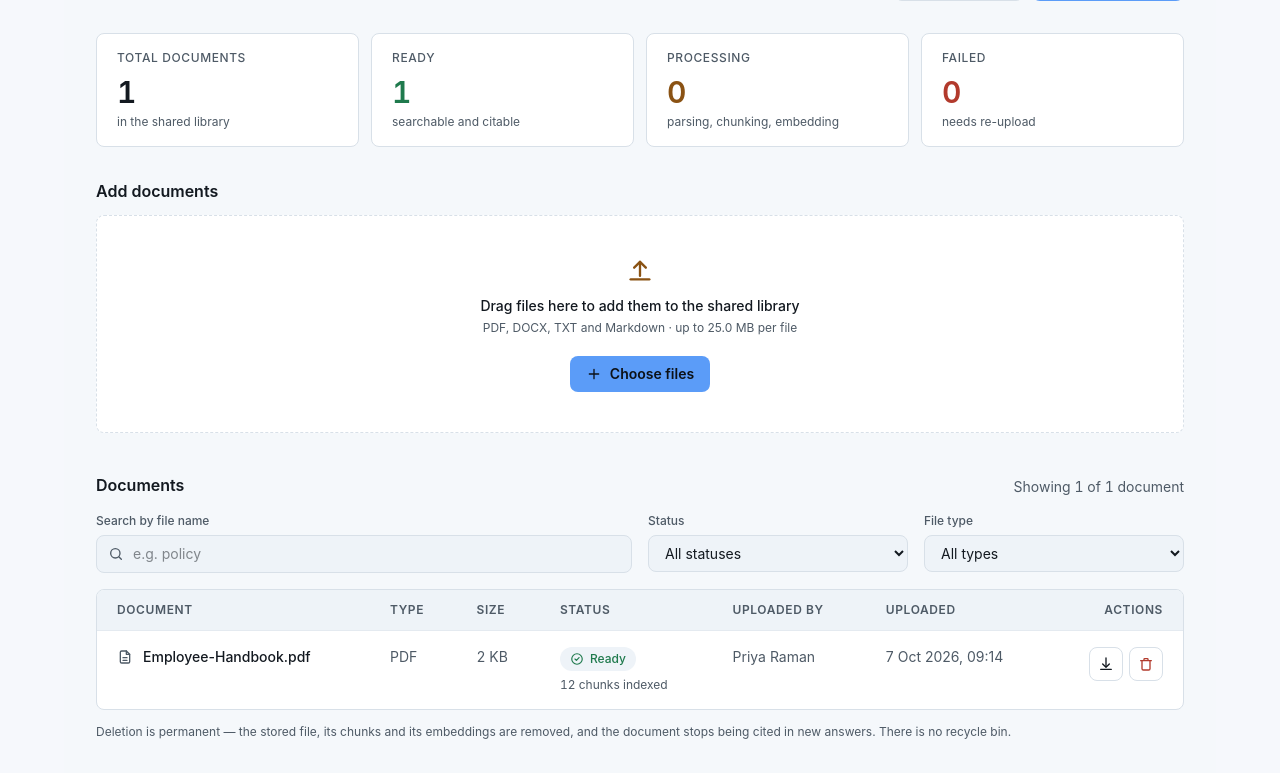
Test: KnowledgeBase › AC-037: cancel closes the dialog, sends no request, and the document remains Ready
The width and height of the screenshot is (1280, 773).
(page scrolled)
Expected: the text "Employee-Handbook.pdf" is shown, top-left (143, 646), bottom-right (311, 666)
Click the button named "Delete Employee-Handbook.pdf" at (1146, 664), box top-left (1129, 646), bottom-right (1163, 680)
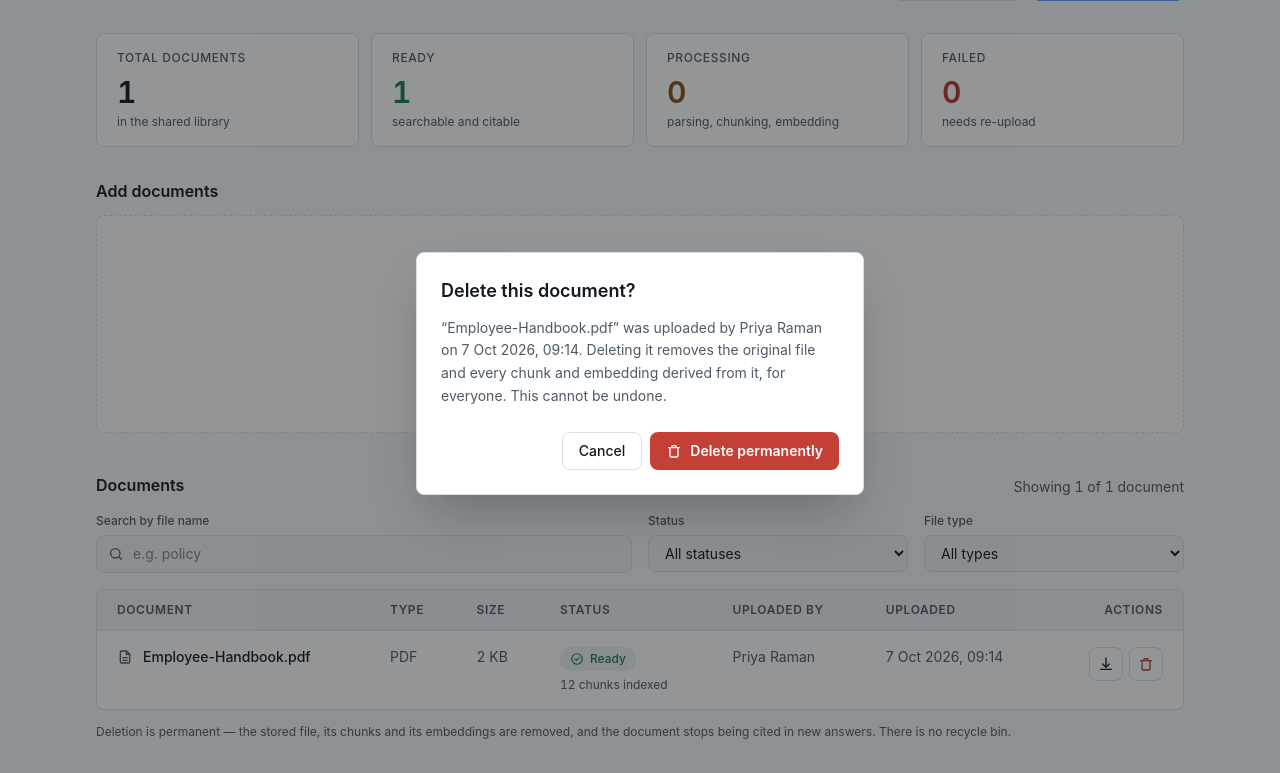
Expected: the dialog is shown, top-left (416, 252), bottom-right (864, 494)
Click the button "Cancel" at (602, 450), box top-left (562, 432), bottom-right (642, 470)
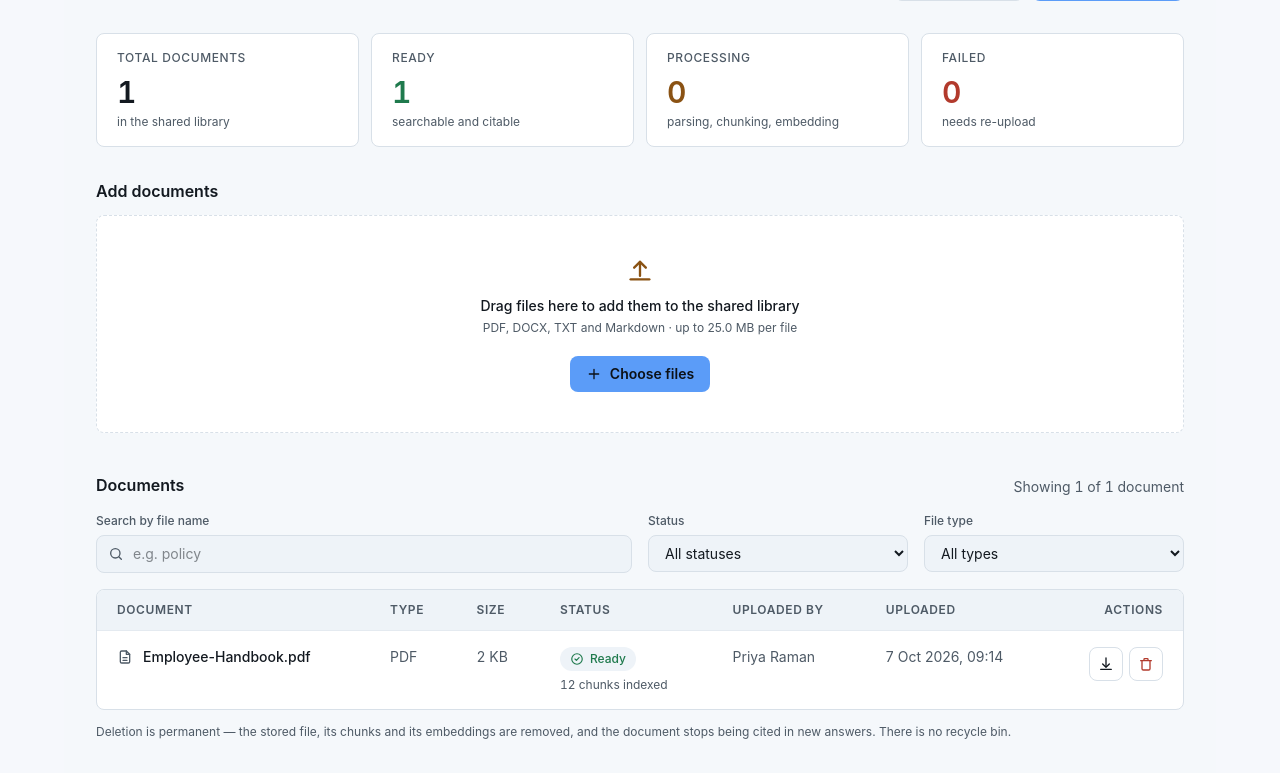
Expected: the text "Employee-Handbook.pdf" is shown, top-left (143, 646), bottom-right (311, 666)
Expected: the dialog is gone
